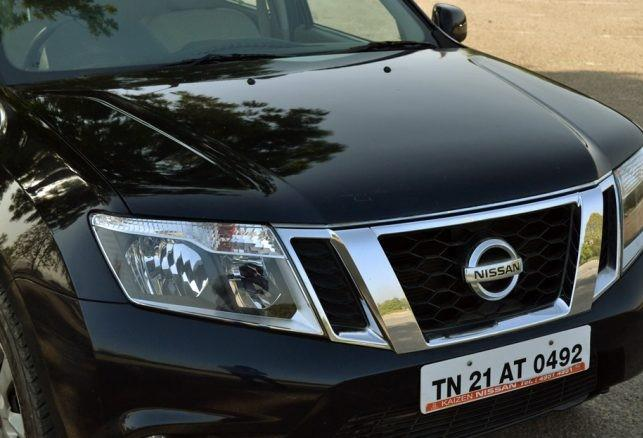License-Plate: (409, 323, 599, 413)
